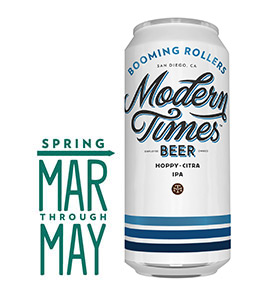beer can: (123, 18, 232, 280)
